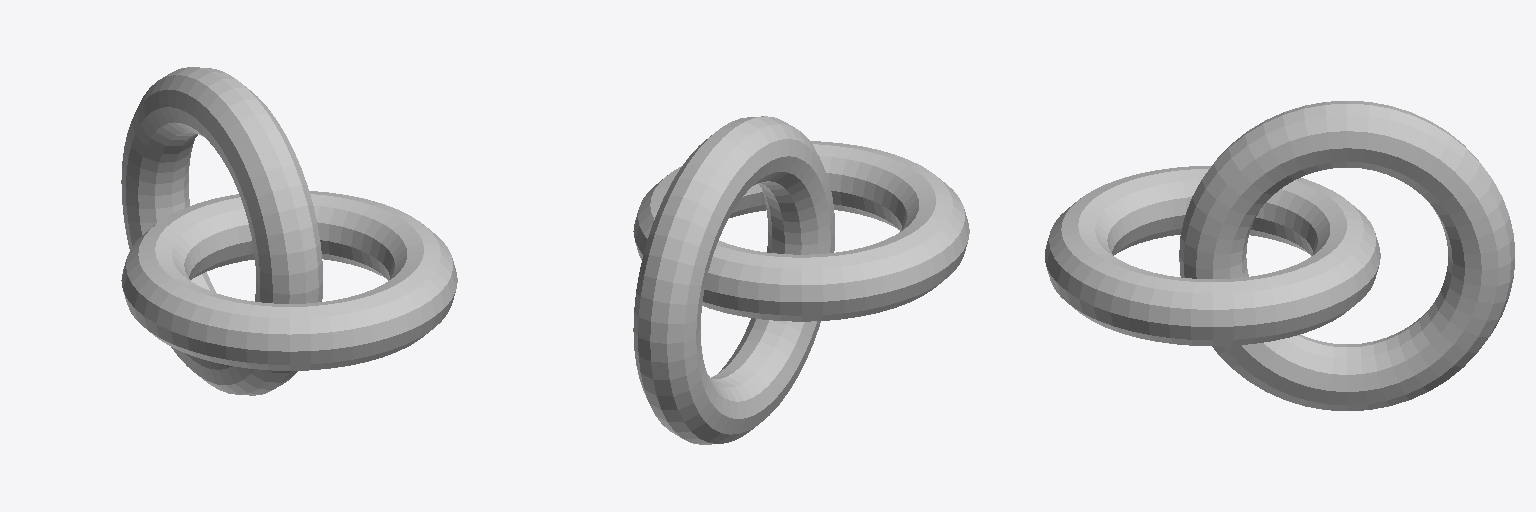
File: LinkedTorus.obj
3 views of the same model, side by side, from view 1: azimuth 30°, elevation 25°; view 2: azimuth 150°, elevation 25°; view 3: azimuth 270°, elevation 25° (orthographic).
Visible parts, largest first — view 1: Torus; view 2: Torus; view 3: Torus.
Boxes of the visible parts, box(x1,y1,x2,y2) form: Torus: box(121, 67, 457, 395); Torus: box(633, 116, 969, 444); Torus: box(1045, 101, 1514, 410).
Bounding box in the file's own units: 2.5 × 2.5 × 3.5.